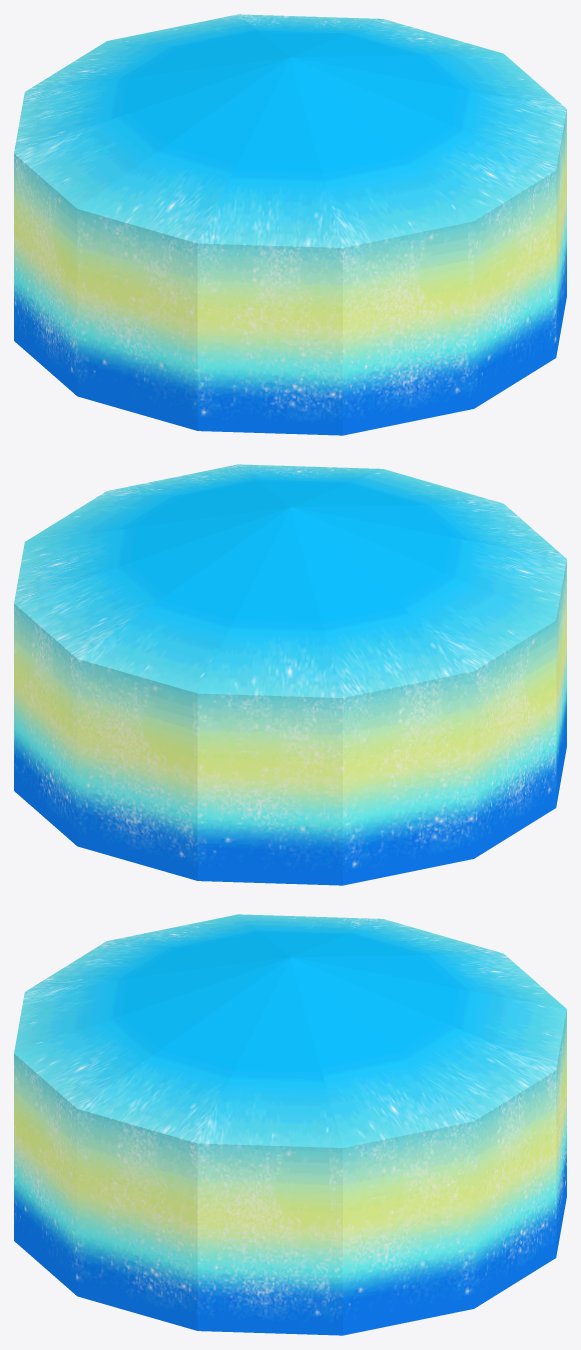
File: mini_stage4_V.glb
The picture shows the model from 3 angles, top to bottom: view 1: azimuth 30°, elevation 25°; view 2: azimuth 150°, elevation 25°; view 3: azimuth 270°, elevation 25°; orthographic projection.
Visible parts, largest first — view 1: mini_stage4_V; view 2: mini_stage4_V; view 3: mini_stage4_V.
Part boxes in pixels (bbox=[...]): mini_stage4_V: bbox=[14, 14, 566, 435]; mini_stage4_V: bbox=[14, 464, 566, 885]; mini_stage4_V: bbox=[14, 914, 566, 1335].
Bounding box in the file's own units: 307 × 209 × 307.
Materials: 1 (1 with a texture image).
